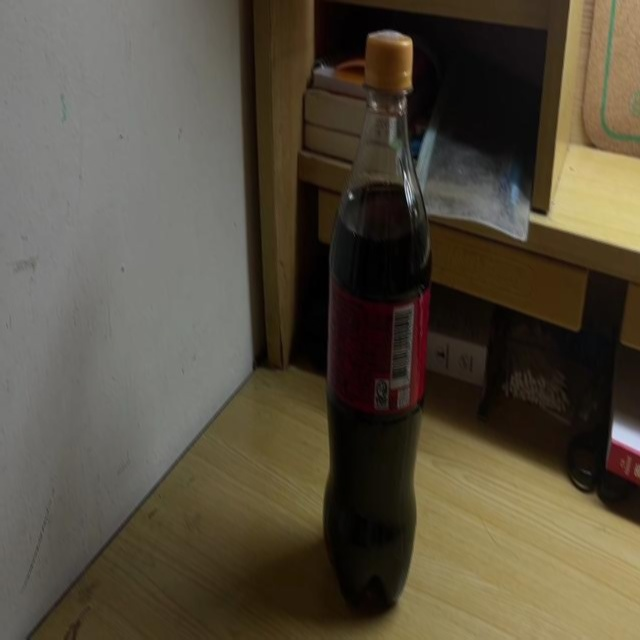Coca-Cola: (322, 33, 433, 612)
